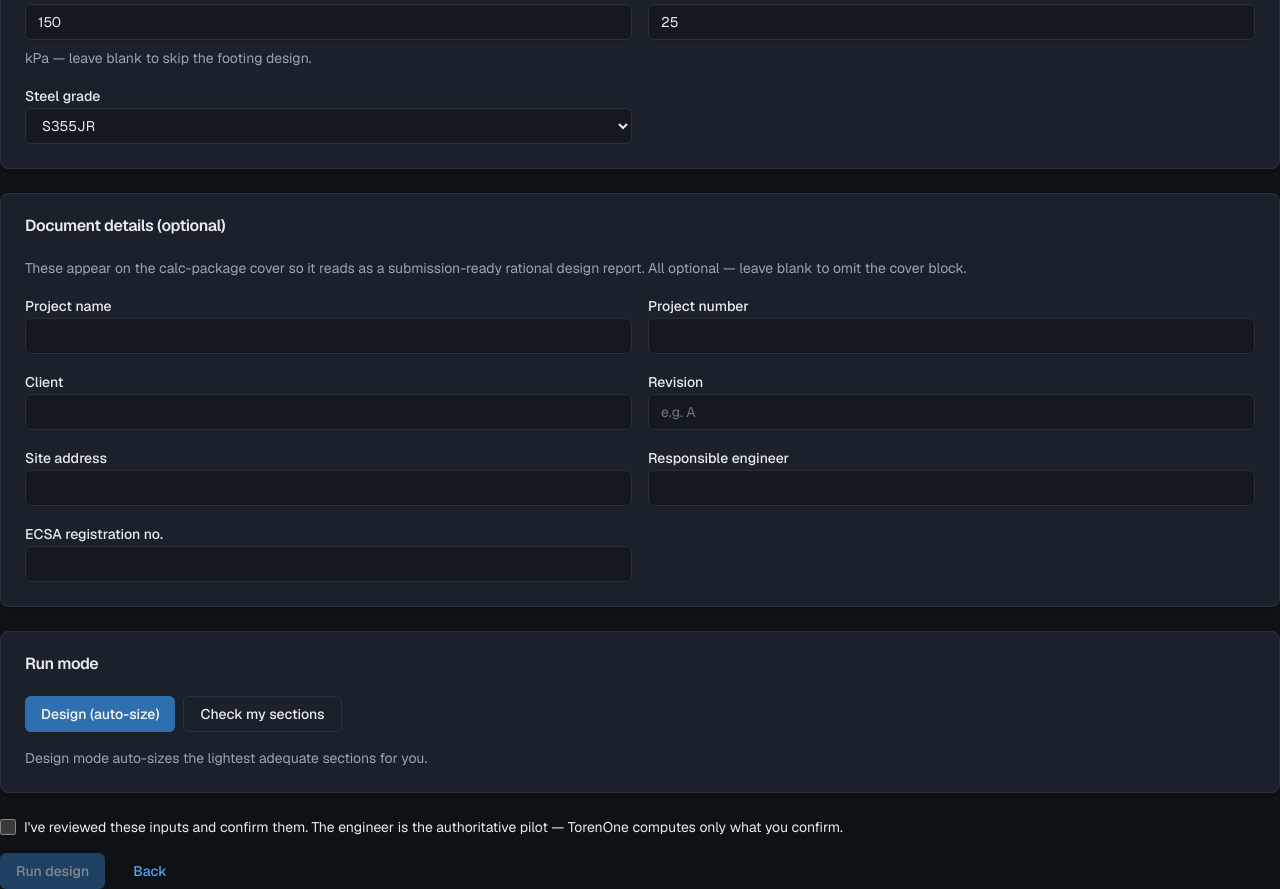
Test case: ReviewStep › explains Check mode as the lower-liability path (FR-24)
This screenshot has width=1280, height=889.
(page scrolled)
Check: the text "auto-sizes the lightest adequate sections" is shown, box [25,748,427,766]
…switching to Check mode surfaces the "you stay the author" framing.
What coordinates should you click on to do the following:
click the button "Check my sections"
I would click on:
 (263, 714)
Its box is [184,696,342,732].
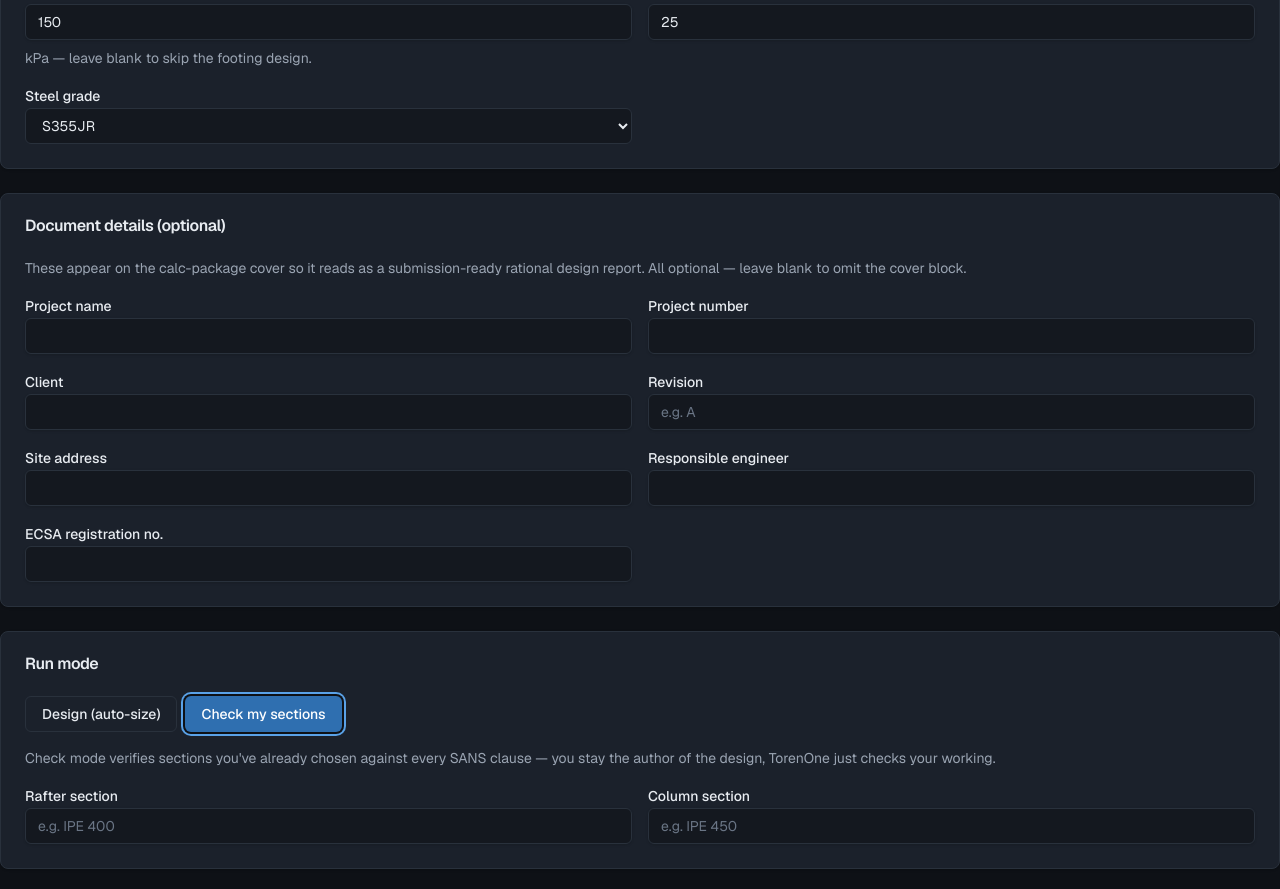
Check: the text "you stay the author of the design" is shown, box [25,748,996,766]
